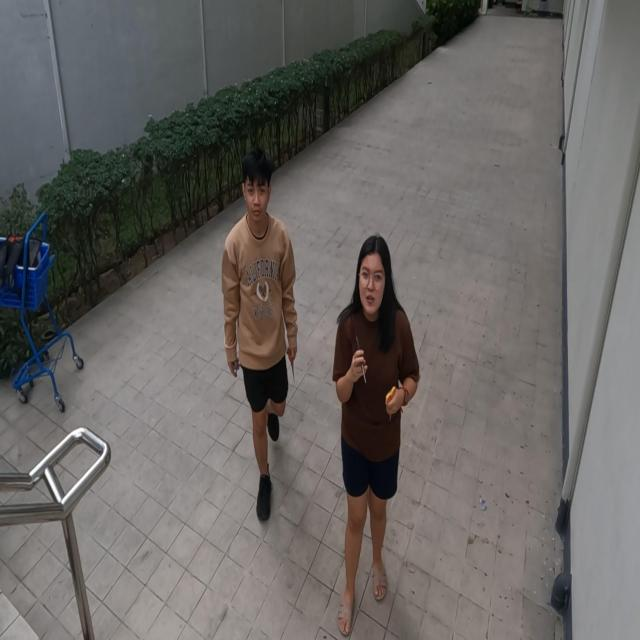scissor: (385, 384, 396, 424)
